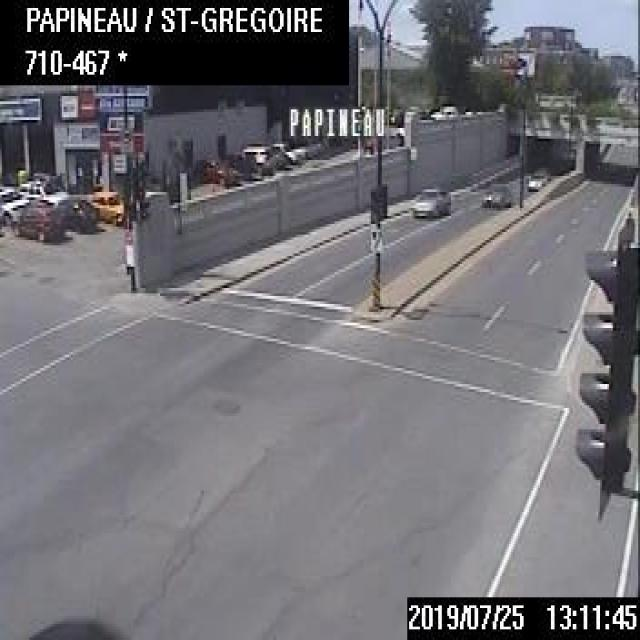vehicle: (10, 197, 68, 245), (57, 196, 99, 233), (88, 186, 125, 224), (21, 176, 68, 204), (196, 157, 240, 186), (411, 186, 449, 217), (0, 186, 27, 226), (480, 181, 511, 208), (227, 150, 254, 176), (241, 142, 268, 168), (270, 140, 300, 159), (526, 164, 546, 187), (267, 144, 284, 166)
